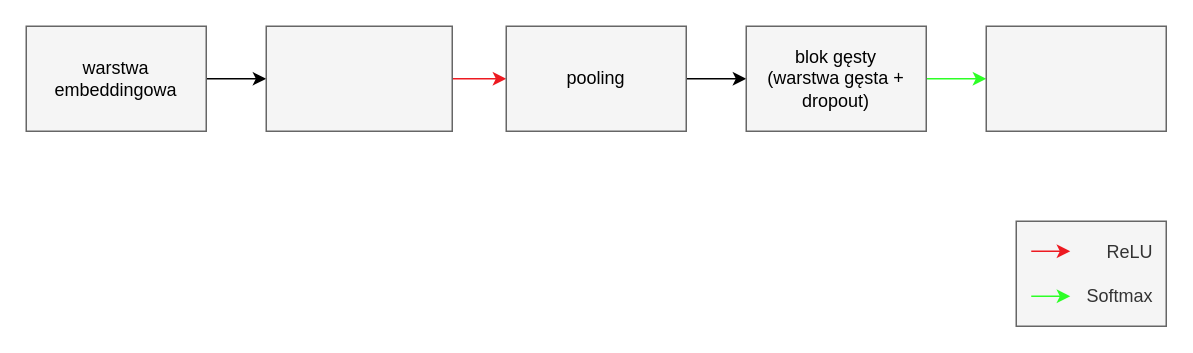
The diagram is 1193 pixels wide and 353 high, and some of its shapes have lost their labels. The shapes that lost their labels are listed below. From the top down, each one's box as (x1, y1, x2, y2) in pixels, then its label:
(265, 25, 452, 131): blok splotów
(985, 25, 1166, 131): wyjście
